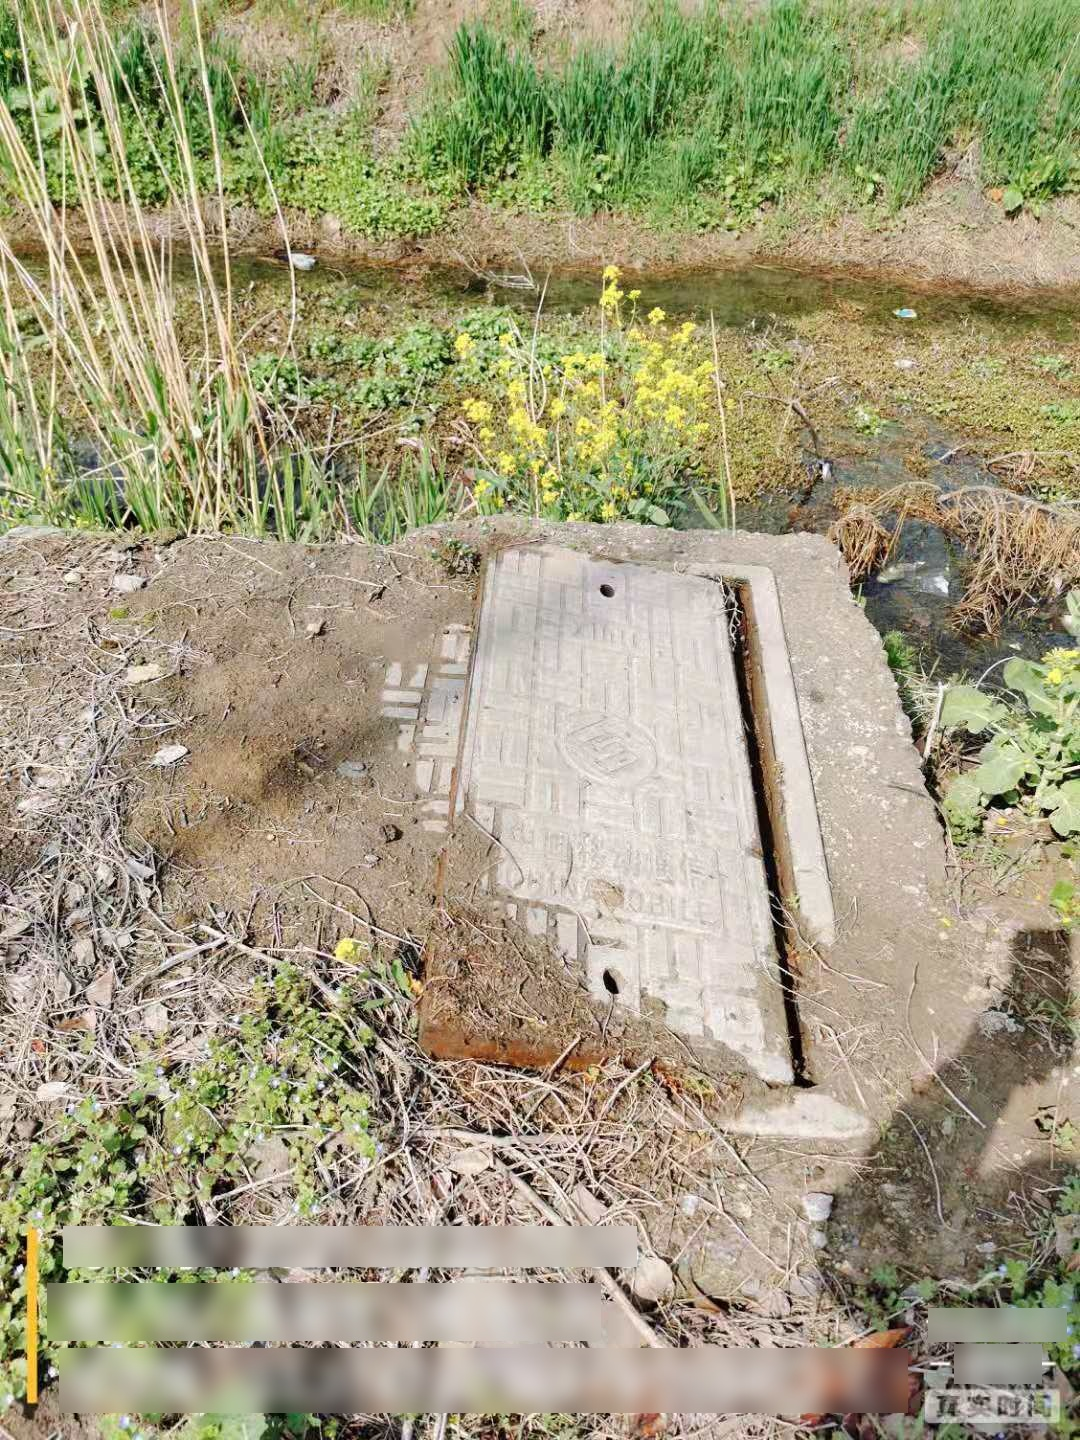uncovered: (358, 530, 874, 1125)
